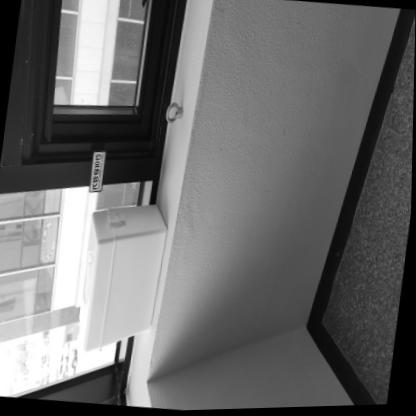DDL: (76, 197, 171, 356)
